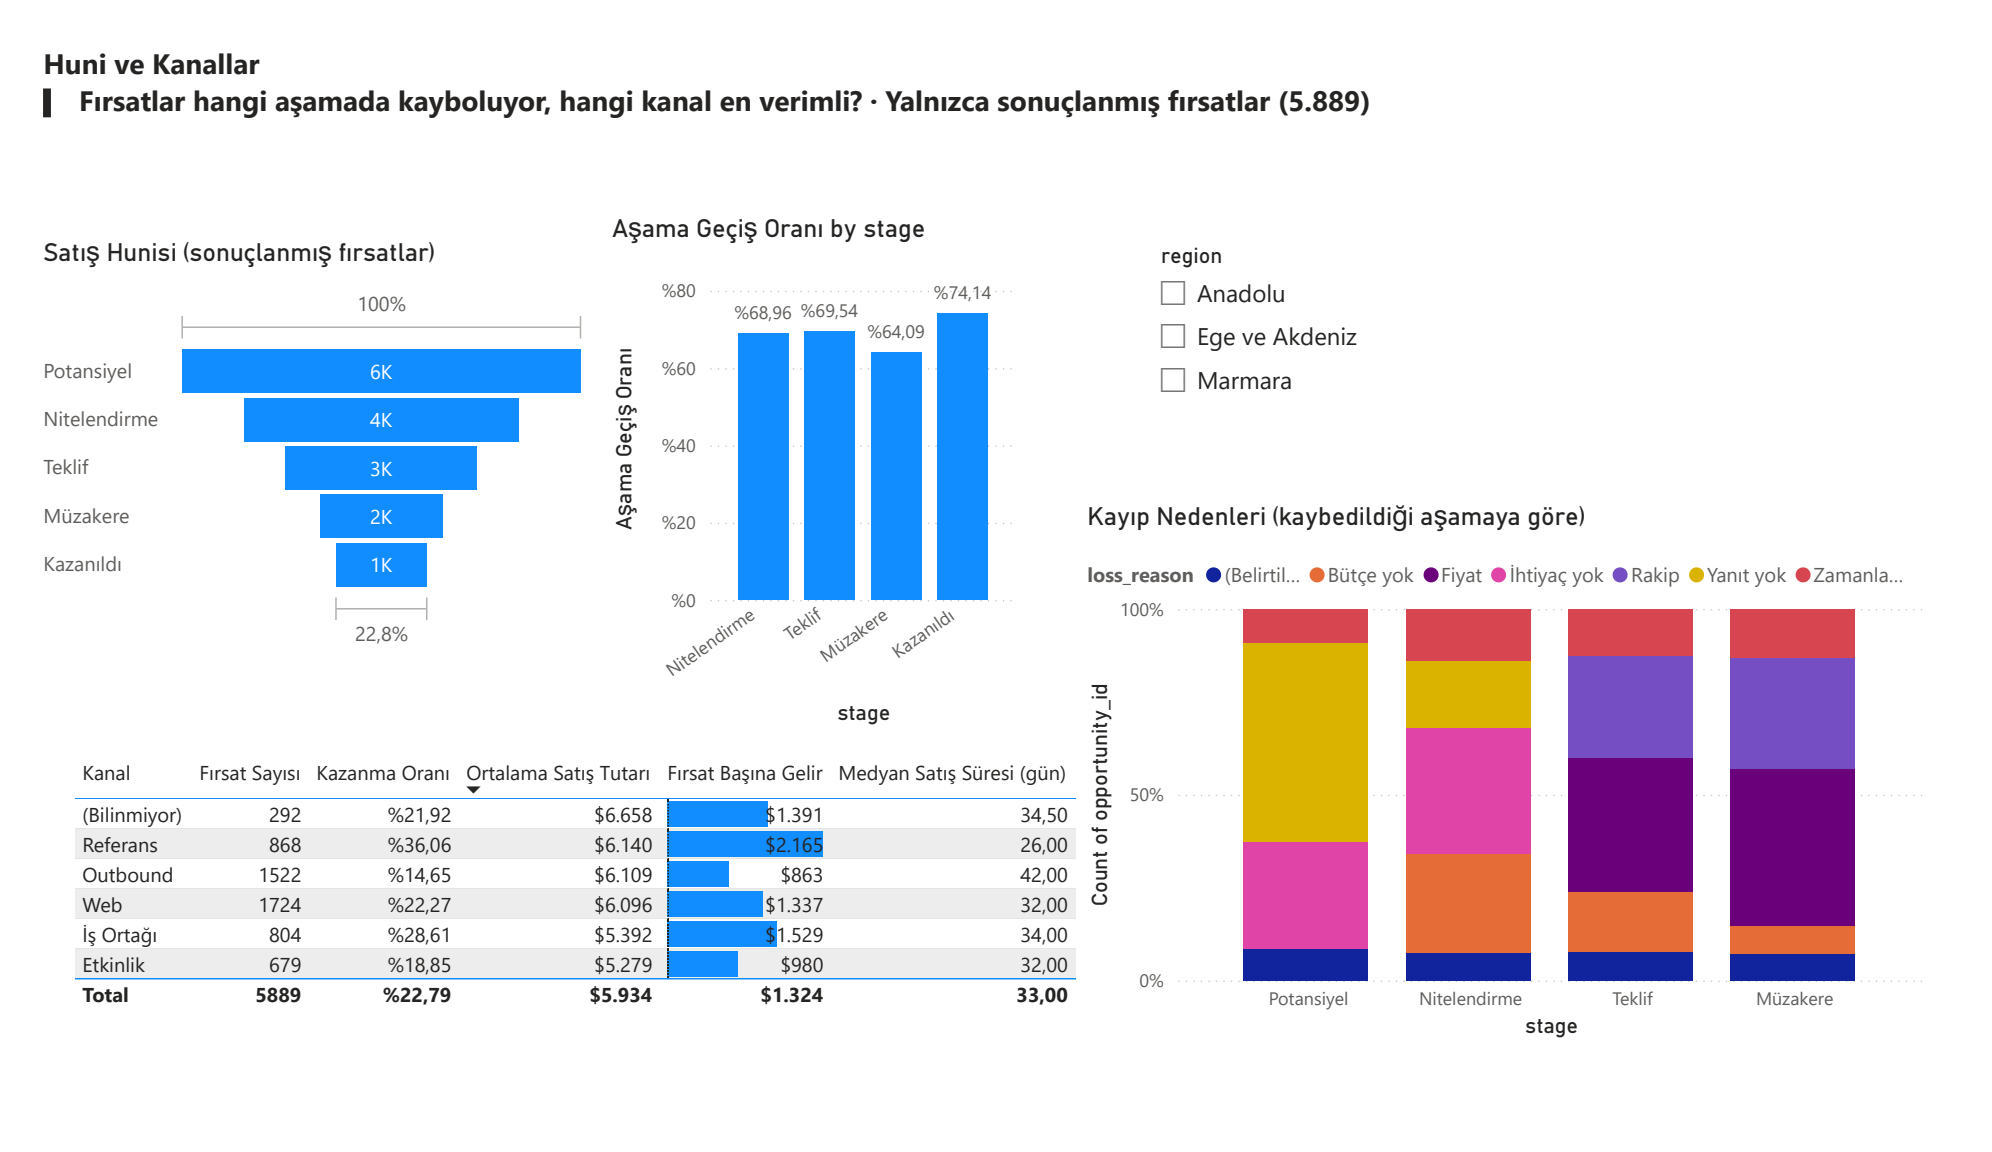

What the dashboard file says about the page in this screenshot:
{"tool":"powerbi","page":{"name":"Huni ve Kanallar","canvas":[1280,720],"ordinal":1},"visuals":[{"type":"funnel","title":"Satış Hunisi (sonuçlanmış fırsatlar)","fields":{"Category":["fact_stage_history.stage"],"Y":["ölçüler.Aşamaya Ulaşan"]},"box":[0,132.9,372.9,280],"z":0},{"type":"clusteredColumnChart","fields":{"Category":["fact_stage_history.stage"],"Y":["ölçüler.Aşama Geçiş Oranı"]},"box":[378.6,117.1,280,347.1],"z":1000},{"type":"tableEx","fields":{"Values":["fact_opportunity.lead_source","ölçüler.Fırsat Sayısı","ölçüler.Kazanma Oranı","ölçüler.Ortalama Satış Tutarı","ölçüler.Fırsat Başına Gelir","ölçüler.Medyan Satış Süresi (gün)"]},"box":[20,475.7,685.7,187.1],"z":2000},{"type":"slicer","fields":{"Values":["dim_rep.region"]},"box":[737.1,132.9,280,125.7],"z":3000},{"type":"textbox","box":[0,0,1037.1,82.9],"z":4000},{"type":"hundredPercentStackedColumnChart","title":"Kayıp Nedenleri (kaybedildiği aşamaya göre)","fields":{"Category":["fact_stage_history.stage"],"Y":["CountNonNull(fact_stage_history.opportunity_id)"],"Series":["fact_opportunity.loss_reason"]},"box":[695.7,308.6,568.6,364.3],"z":5000}]}

Visuals, with their boxes in screenshot pixels (x1, y1, x2, y2), scaled from the page's 1280x720 canvas onto the 1992x1152 screenshot:
"Satış Hunisi (sonuçlanmış fırsatlar)" funnel: (0, 213, 580, 661)
clusteredColumnChart - fact_stage_history.stage x ölçüler.Aşama Geçiş Oranı: (589, 187, 1025, 743)
tableEx - fact_opportunity.lead_source x ölçüler.Fırsat Sayısı: (31, 761, 1098, 1060)
slicer - dim_rep.region: (1147, 213, 1583, 414)
textbox: (0, 0, 1614, 133)
"Kayıp Nedenleri (kaybedildiği aşamaya göre)" hundredPercentStackedColumnChart: (1083, 494, 1968, 1077)
